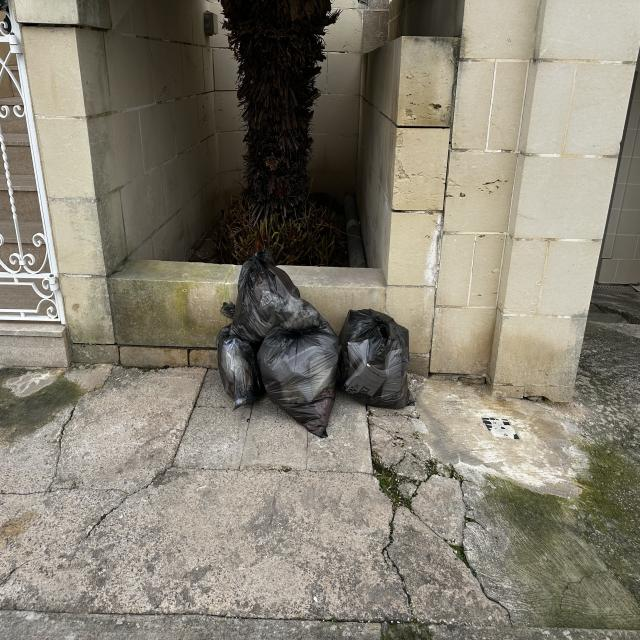Mixed Waste -Black Bags-: (216, 248, 415, 439)
